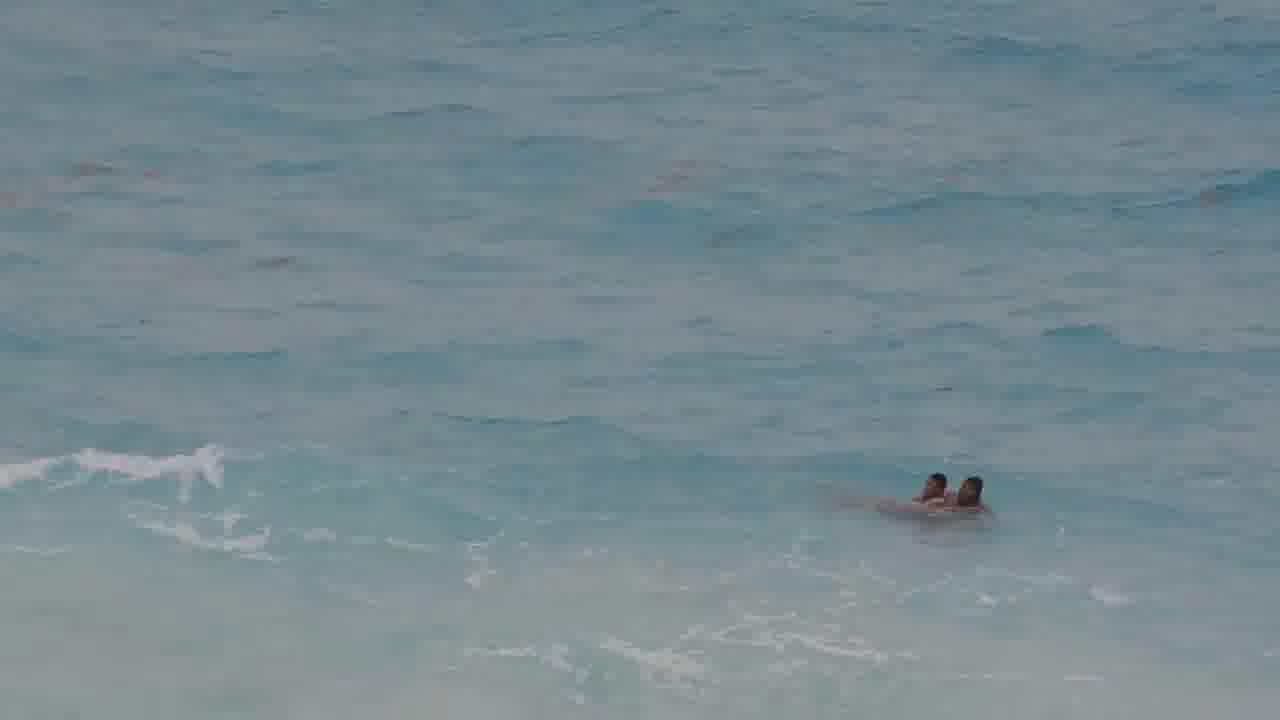swimmer: (866, 458, 944, 517), (949, 468, 1002, 518)
